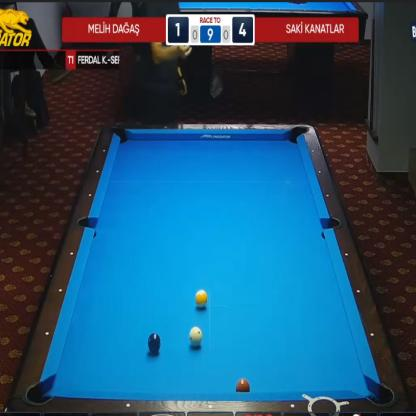Ball: (148, 332, 161, 353), (189, 326, 202, 346), (196, 289, 208, 308), (235, 378, 250, 392)
